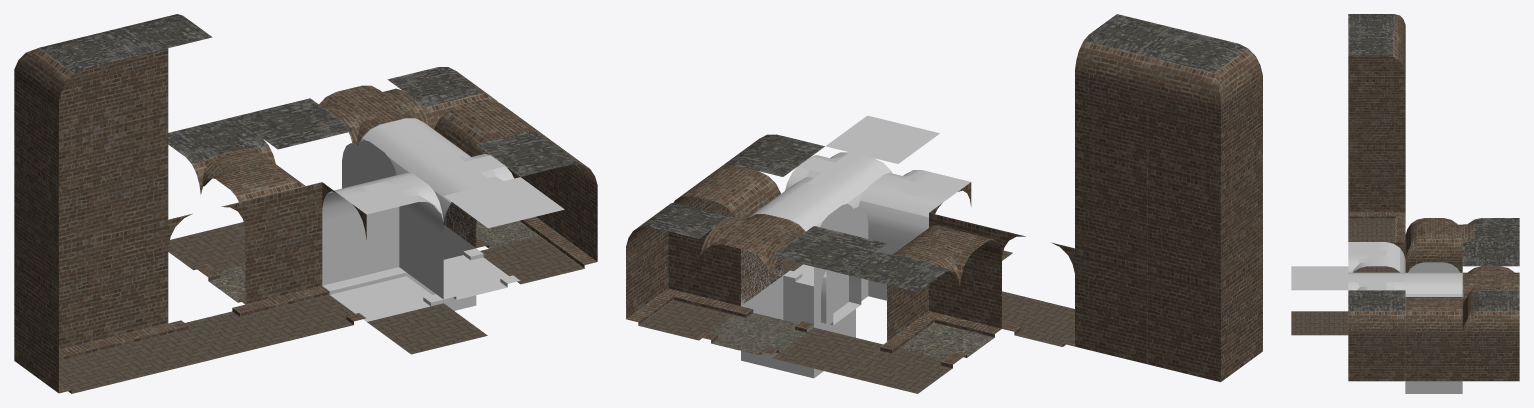
The model's file is newTiles.fbx.
The picture shows the model from 3 angles, left to right: view 1: azimuth 30°, elevation 25°; view 2: azimuth 150°, elevation 25°; view 3: azimuth 270°, elevation 25°; orthographic projection. The views are drawn at different scales.
Parts seen in each view (by area): view 1: room_side_big_bot, room_corner_entrance, room_corner_big_bot, corridor_corner, room_side, room_corner_big_top, t_crossroad, room_side_big_mid, room_corner_big_mid, room_corner_entrance_big_bot, room_side_big_top, room_entrance (+9 smaller); view 2: room_corner_big_top, room_corner, room_corner_big_mid, room_corner_big_bot, corridor_corner, room_side_big_top, trap, room_side_big_mid, room_side_big_bot, x_crossroad, room_mid, room_entrance (+8 smaller); view 3: room_corner_big_bot, room_side, room_corner, corridor, room_corner_big_mid, corridor_corner, room_corner_big_top, trap, room_corner_entrance, room_mid, room_mid_big_bot, room_side_big_top (+7 smaller).
Boxes of the visible parts, box(x1,y1,x2,y2) form: room_side_big_bot: box(91, 220, 212, 378); room_corner_entrance: box(322, 172, 443, 321); room_corner_big_bot: box(14, 238, 135, 393); corridor_corner: box(201, 155, 322, 304); room_side: box(476, 132, 597, 284); room_corner_big_top: box(14, 33, 135, 181); t_crossroad: box(399, 150, 520, 299); room_side_big_mid: box(91, 112, 168, 238); room_corner_big_mid: box(14, 131, 91, 289); room_corner_entrance_big_bot: box(245, 182, 366, 340); room_side_big_top: box(91, 14, 212, 130); room_entrance: box(168, 117, 275, 271); room_corner_big_top: box(1148, 32, 1262, 181); room_corner: box(626, 202, 740, 340); room_corner_big_mid: box(1148, 151, 1262, 283); room_corner_big_bot: box(1148, 253, 1262, 382); corridor_corner: box(887, 225, 1001, 359); room_side_big_top: box(1075, 14, 1189, 164); trap: box(741, 183, 855, 378); room_side_big_mid: box(1075, 146, 1147, 265); room_side_big_bot: box(1075, 248, 1147, 364); x_crossroad: box(699, 214, 813, 355); room_mid: box(772, 226, 886, 375); room_entrance: box(845, 249, 959, 393); room_corner_big_bot: box(1348, 145, 1405, 238); room_side: box(1348, 290, 1405, 381); room_corner: box(1462, 290, 1519, 381); corridor: box(1405, 297, 1462, 381); room_corner_big_mid: box(1348, 76, 1405, 145); corridor_corner: box(1405, 218, 1462, 272); room_corner_big_top: box(1348, 14, 1405, 76); trap: box(1405, 272, 1462, 393); room_corner_entrance: box(1348, 242, 1405, 272); room_mid: box(1462, 242, 1519, 266); room_mid_big_bot: box(1291, 311, 1348, 335); room_side_big_top: box(1348, 31, 1405, 72).
Size of the model in its own units: 42 by 28 by 24.
